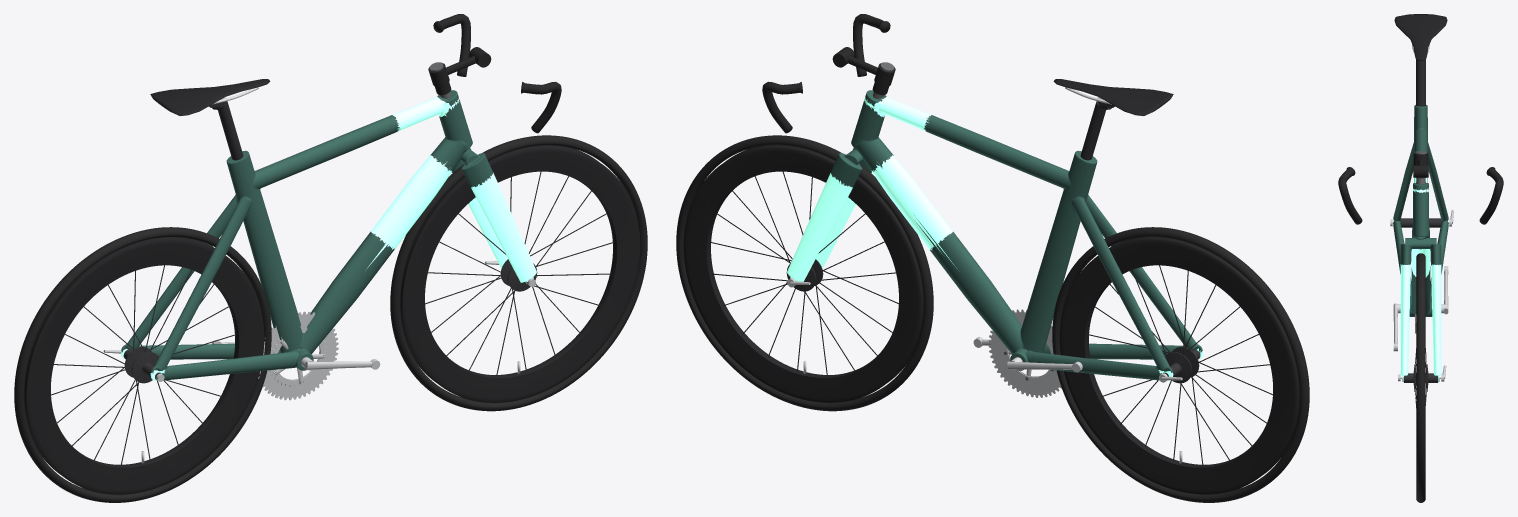
Rendered from bike_web.glb.
The picture shows the model from 3 angles, left to right: view 1: azimuth 30°, elevation 25°; view 2: azimuth 150°, elevation 25°; view 3: azimuth 270°, elevation 25°; orthographic projection. The views are drawn at different scales.
Visible parts, largest first — view 1: frame, rim_rear, rim_front, tyre_rear, tyre_front, fork, spokes_front, chainrings, spokes_rear, saddle, dropbar, stem (+3 smaller); view 2: frame, rim_rear, rim_front, tyre_rear, tyre_front, fork, spokes_front, spokes_rear, saddle, chainrings, dropbar, stem (+3 smaller); view 3: frame, fork, tyre_front, saddle, dropbar, crank_arms, stem, seatpost, hub_front, hub_rear.
Boxes of the visible parts, <box> form: frame: <box>121,90,472,380</box>; rim_rear: <box>24,237,264,494</box>; rim_front: <box>400,145,640,402</box>; tyre_rear: <box>14,227,271,502</box>; tyre_front: <box>390,135,647,411</box>; fork: <box>452,147,536,283</box>; spokes_front: <box>425,171,614,375</box>; chainrings: <box>258,311,338,400</box>; spokes_rear: <box>51,265,236,465</box>; saddle: <box>150,79,270,115</box>; dropbar: <box>433,14,561,133</box>; stem: <box>428,47,491,98</box>; frame: <box>851,90,1202,380</box>; rim_rear: <box>1059,237,1299,494</box>; rim_front: <box>683,145,923,402</box>; tyre_rear: <box>1052,227,1309,502</box>; tyre_front: <box>676,135,933,411</box>; fork: <box>787,147,871,281</box>; spokes_front: <box>710,171,898,375</box>; spokes_rear: <box>1087,265,1272,465</box>; saddle: <box>1053,79,1173,115</box>; chainrings: <box>988,309,1061,397</box>; dropbar: <box>762,14,890,133</box>; stem: <box>832,47,895,98</box>; frame: <box>1393,105,1448,316</box>; fork: <box>1400,238,1441,381</box>; tyre_front: <box>1416,253,1425,502</box>; saddle: <box>1394,14,1447,60</box>; dropbar: <box>1338,167,1503,224</box>; crank_arms: <box>1393,266,1448,351</box>; stem: <box>1413,151,1428,184</box>; seatpost: <box>1416,59,1425,106</box>; hub_front: <box>1402,364,1439,391</box>; hub_rear: <box>1400,218,1441,227</box>.
Size of the model in its own units: 1.66 by 0.9827 by 0.4466.
